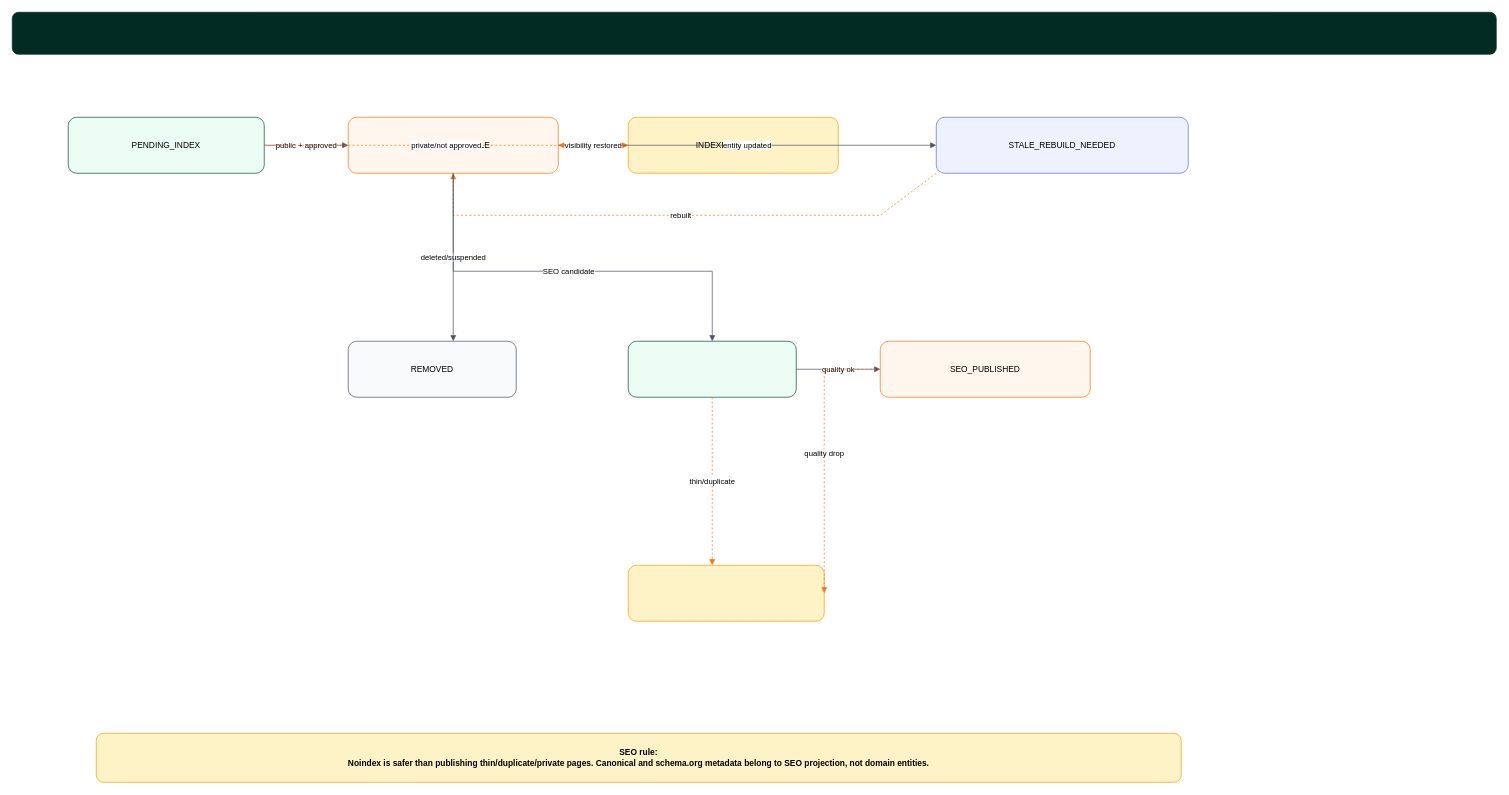
The diagram is 1509 pixels wide and 795 high, and some of its shapes have lost their labels. The centre of each missing label's shape, as x and y in pixels:
SEO_DRAFT: point (712, 369)
SEO_NOINDEX: point (726, 593)
Viaverse Search Index / SEO Page — State Diagram: point (754, 33)
